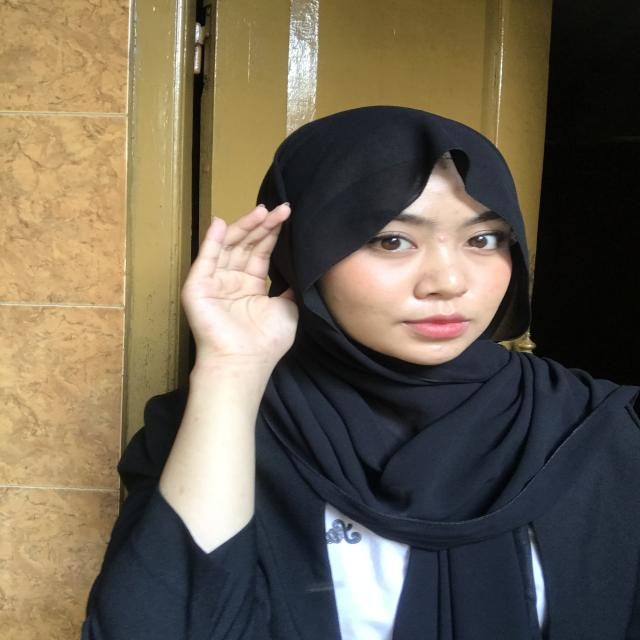mendengar: (174, 197, 312, 387)
